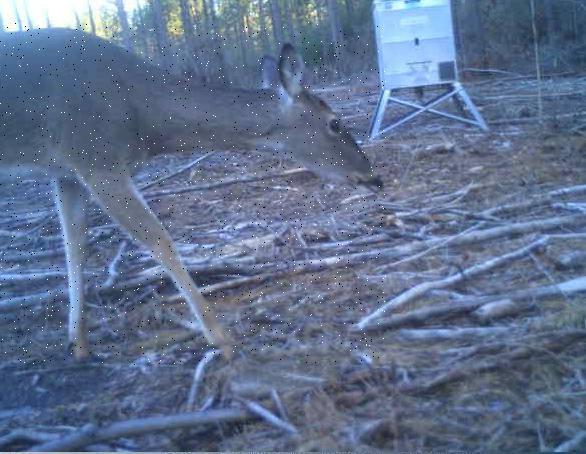Deer: (0, 22, 386, 365)
